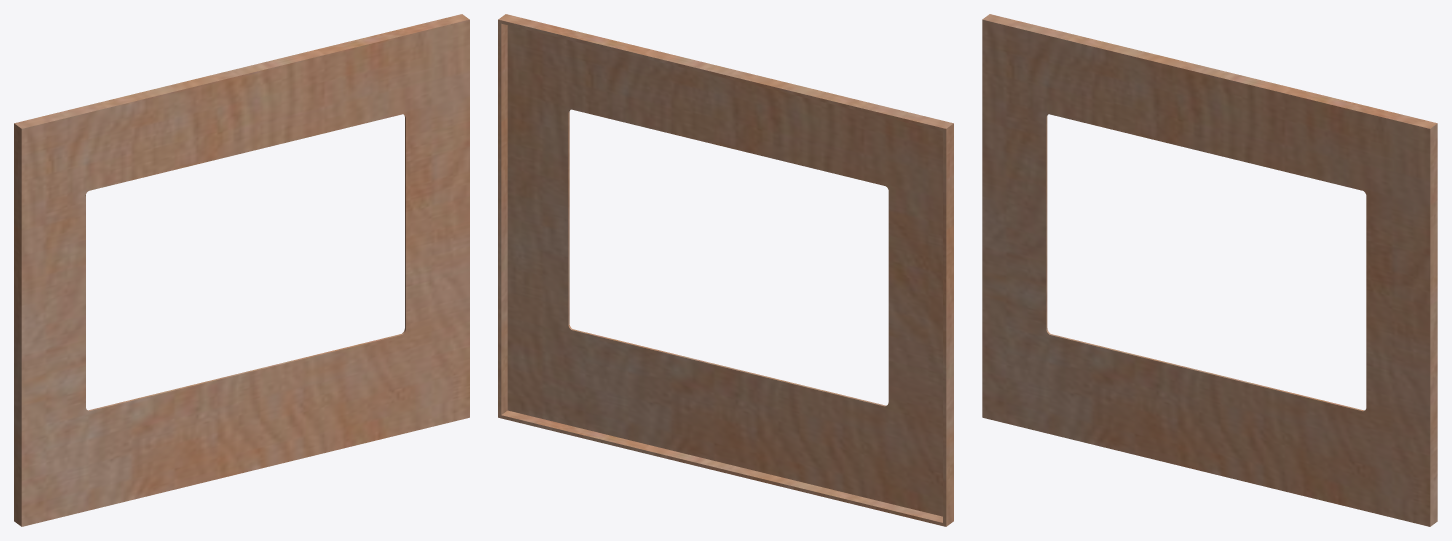
The model's file is original-2.obj.
3 renders of one model, left to right at view 1: azimuth 30°, elevation 25°; view 2: azimuth 150°, elevation 25°; view 3: azimuth 330°, elevation 25°, orthographic.
Parts seen in each view (by area): view 1: Group2/mesh2/mesh2-geometry#mesh2-geometry; view 2: Group2/mesh2/mesh2-geometry#mesh2-geometry; view 3: Group2/mesh2/mesh2-geometry#mesh2-geometry.
Part boxes in pixels (box(x1,y1,x2,y2)): Group2/mesh2/mesh2-geometry#mesh2-geometry: box(14, 14, 469, 526); Group2/mesh2/mesh2-geometry#mesh2-geometry: box(498, 14, 953, 526); Group2/mesh2/mesh2-geometry#mesh2-geometry: box(982, 14, 1437, 526).
Size of the model in its own units: 0.9848 by 0.8362 by 0.0291.
